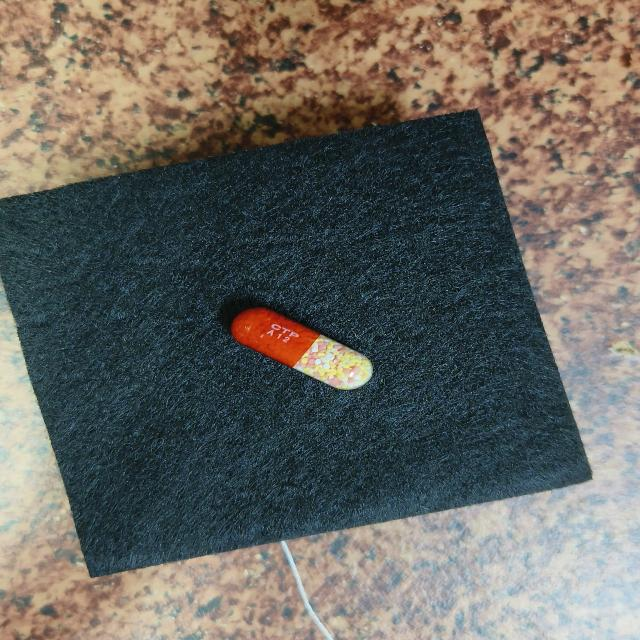Intact Capsule: (231, 307, 373, 390)
